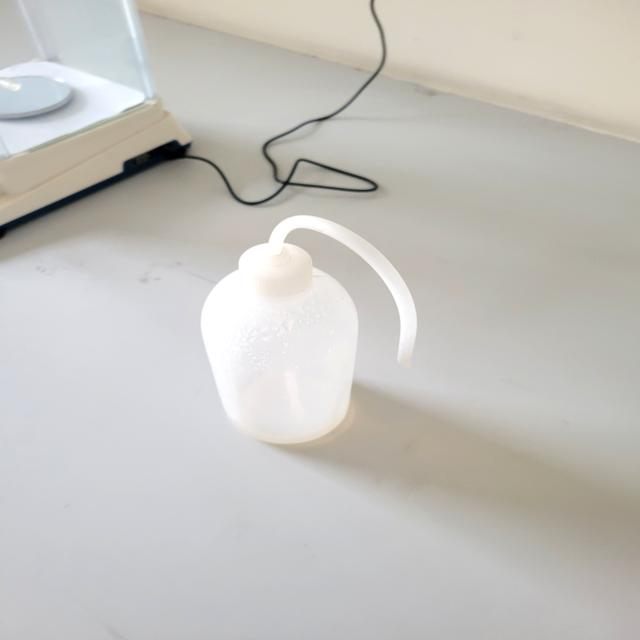Wash_Bottle: (177, 197, 427, 468)
